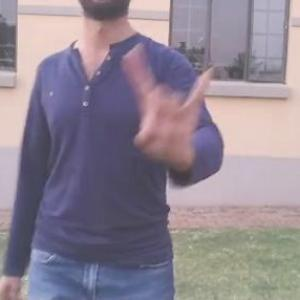takeoff-hand: (114, 30, 226, 166)
